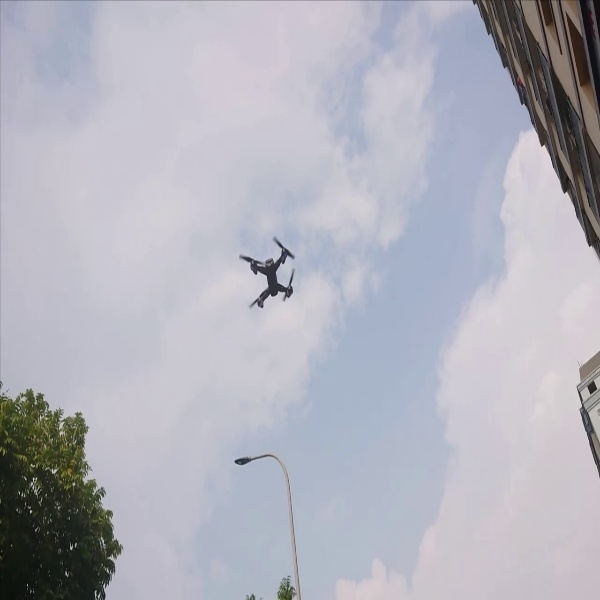drone: (219, 227, 313, 314)
